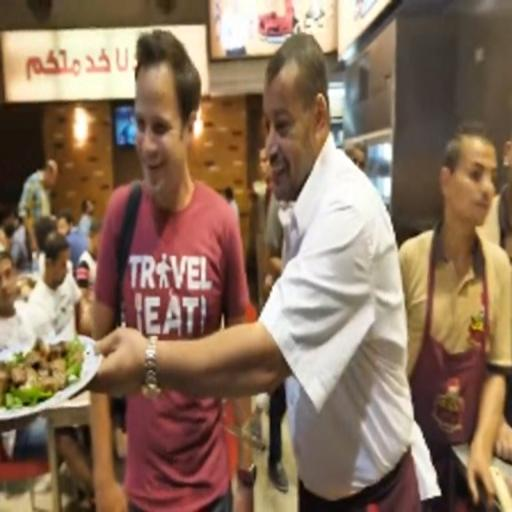nao-violencia: (78, 19, 434, 512)
